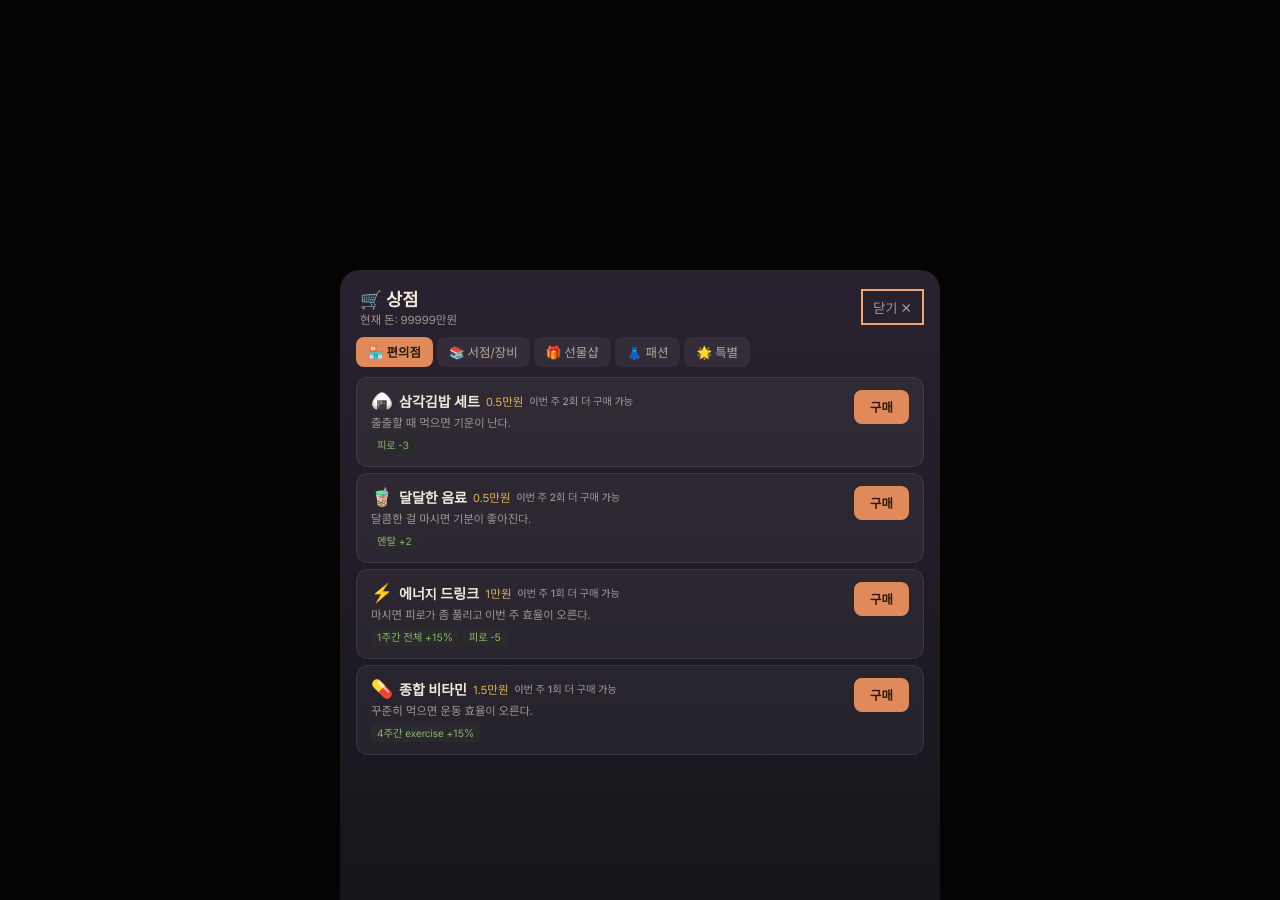
Shop 카테고리 탭 › 카테고리 탭을 렌더하고, 탭 클릭 시 목록이 해당 카테고리로 전환된다
Expected: the text "삼각김밥 세트" is shown, [399, 390, 480, 410]
Expected: the text "참고서" is not shown
Click the button "📚 서점/장비" at (483, 352), box [437, 337, 530, 367]
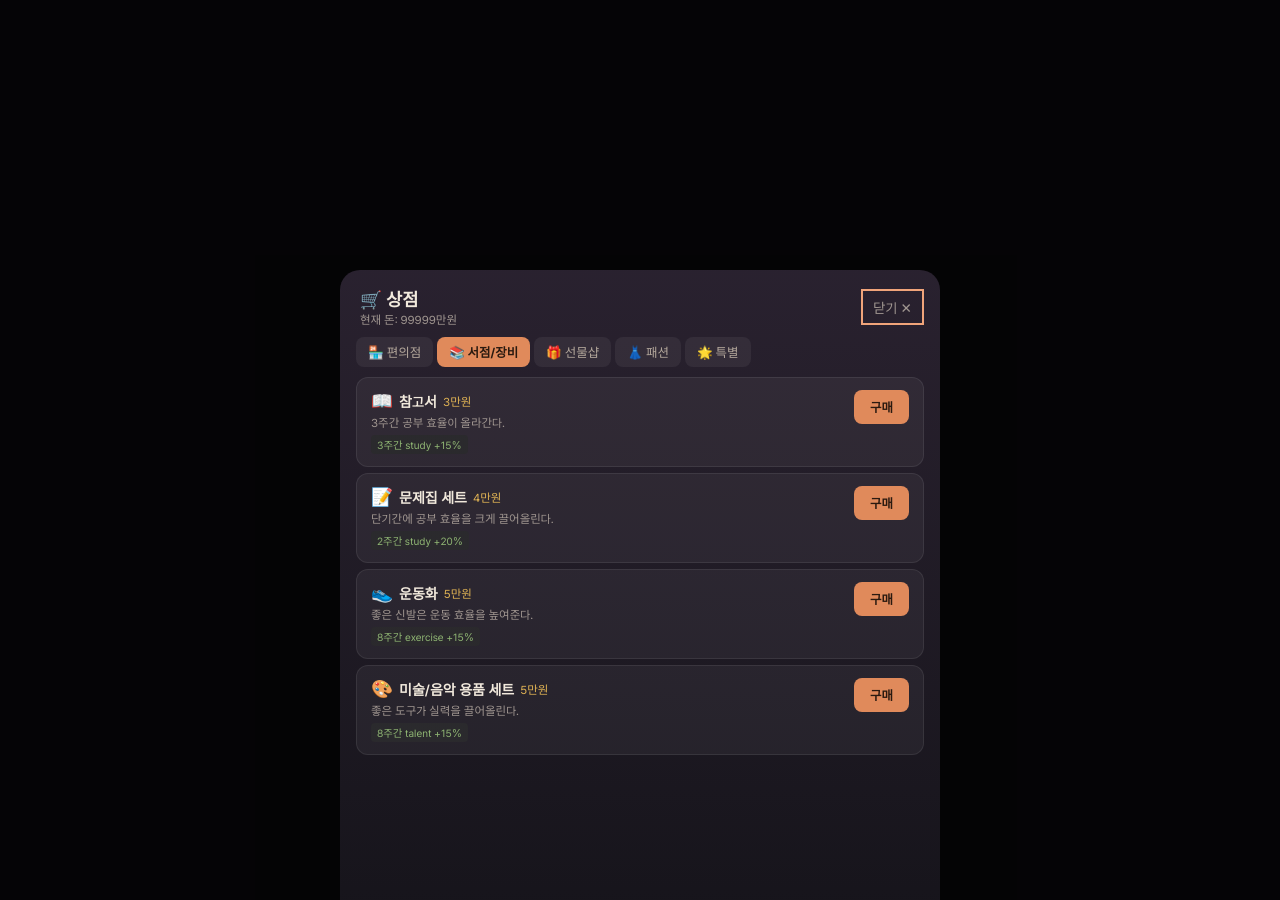
Now the text "참고서" is shown, box [399, 390, 437, 410]
Now the text "삼각김밥 세트" is gone
